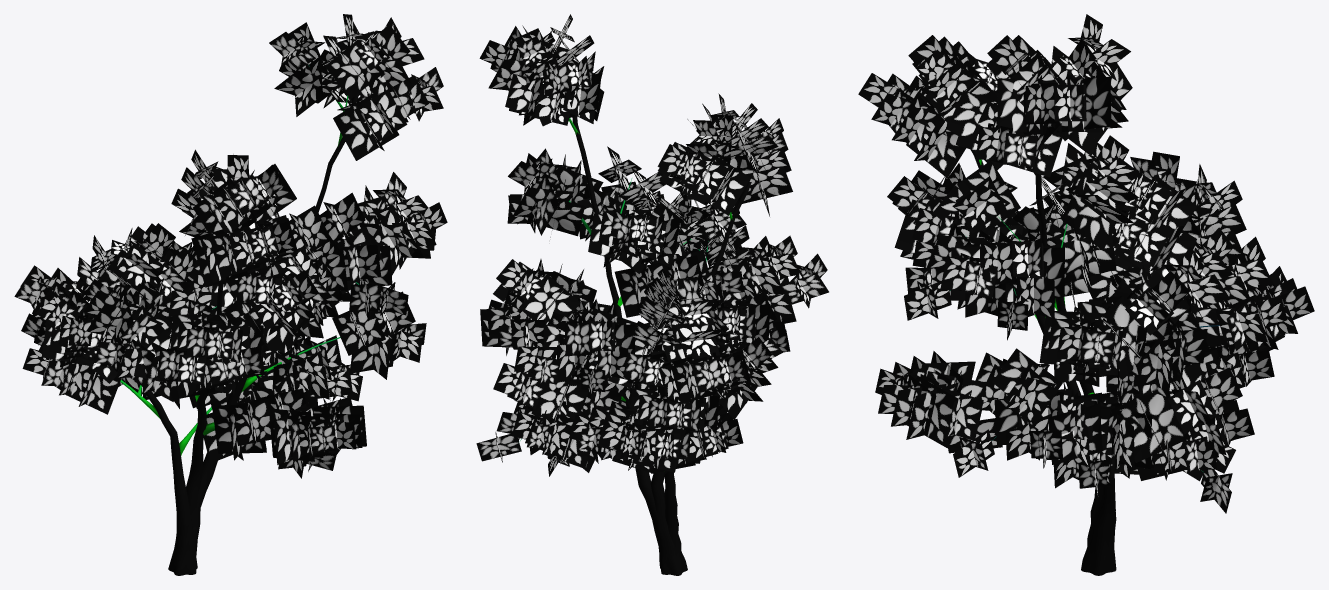
Rendered from Tree_1.fbx.
The picture shows the model from 3 angles, left to right: view 1: azimuth 30°, elevation 25°; view 2: azimuth 150°, elevation 25°; view 3: azimuth 270°, elevation 25°; orthographic projection. The views are drawn at different scales.
Visible parts, largest first — view 1: leaf_1, _0; view 2: leaf_1, _0; view 3: leaf_1, _0.
Part boxes in pixels (x1,y1,x2,y2): leaf_1: (14,14,447,478); _0: (54,65,359,575); leaf_1: (476,14,828,476); _0: (519,116,754,575); leaf_1: (858,14,1314,513); _0: (950,149,1219,575).
Size of the model in its own units: 392 by 562 by 376.
1 material, 1 textured.
